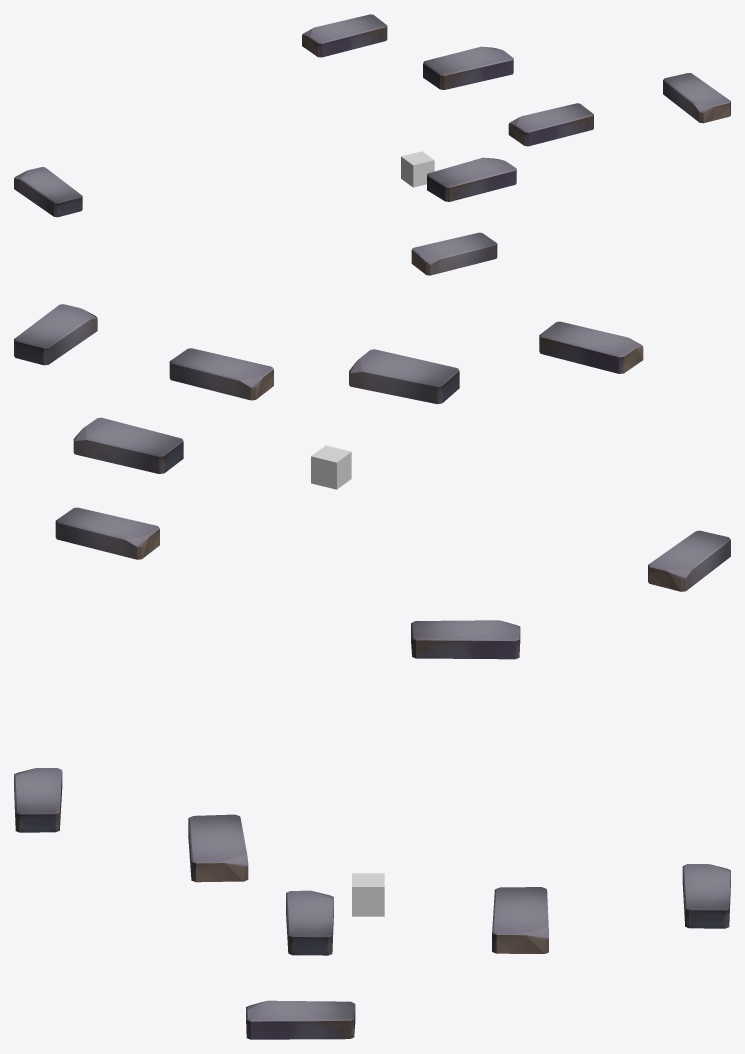
Rendered from trade-floor013.fbx.
The picture shows the model from 3 angles, top to bottom: view 1: azimuth 30°, elevation 25°; view 2: azimuth 150°, elevation 25°; view 3: azimuth 270°, elevation 25°; orthographic projection. The views are drawn at different scales.
Visible parts, largest first — view 1: Cube.038, Cube.036, Cube.039, Cube.042, Cube.037, Cube.045, Cube.048, trade-floor013; view 2: Cube.036, Cube.038, Cube.042, Cube.037, Cube.039, Cube.048, Cube.045, trade-floor013; view 3: Cube.045, Cube.048, Cube.036, Cube.038, Cube.039, Cube.042, Cube.037, trade-floor013.
Part boxes in pixels (bbox=[...]): Cube.038: bbox=[423, 46, 513, 89]; Cube.036: bbox=[427, 157, 516, 201]; Cube.039: bbox=[411, 232, 497, 275]; Cube.042: bbox=[302, 14, 387, 57]; Cube.037: bbox=[508, 103, 593, 146]; Cube.045: bbox=[663, 73, 730, 123]; Cube.048: bbox=[14, 167, 82, 217]; trade-floor013: bbox=[401, 151, 434, 187]; Cube.036: bbox=[349, 349, 459, 404]; Cube.038: bbox=[73, 417, 183, 473]; Cube.042: bbox=[55, 507, 159, 559]; Cube.037: bbox=[169, 348, 273, 400]; Cube.039: bbox=[539, 321, 643, 373]; Cube.048: bbox=[648, 530, 730, 591]; Cube.045: bbox=[14, 304, 97, 365]; trade-floor013: bbox=[311, 445, 351, 489]; Cube.045: bbox=[246, 1000, 355, 1039]; Cube.048: bbox=[411, 620, 520, 659]; Cube.036: bbox=[188, 814, 248, 882]; Cube.038: bbox=[492, 887, 548, 953]; Cube.039: bbox=[14, 768, 62, 832]; Cube.042: bbox=[682, 864, 730, 928]; Cube.037: bbox=[286, 890, 333, 955]; trade-floor013: bbox=[352, 873, 384, 916].
Size of the model in its own units: 2258 by 183 by 1721.
